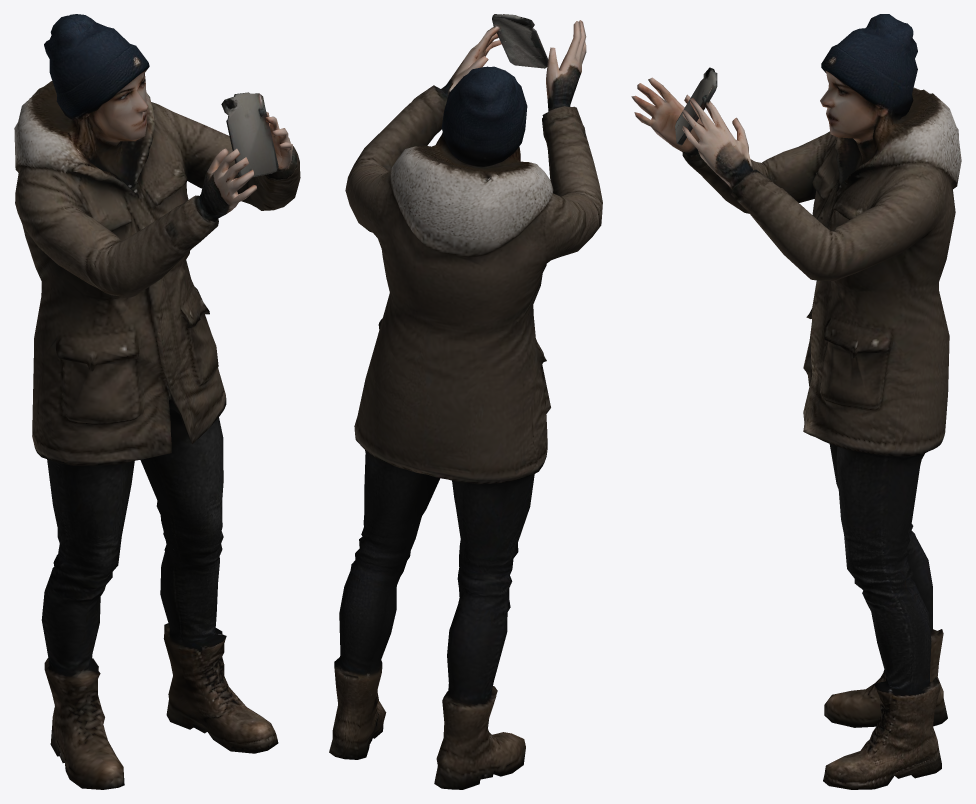
File: woman-winter-coat.glb
3 renders of one model, left to right at view 1: azimuth 30°, elevation 25°; view 2: azimuth 150°, elevation 25°; view 3: azimuth 270°, elevation 25°, orthographic. The views are drawn at different scales.
Parts seen in each view (by area): view 1: tripo_node_66766303-4943-41ef-8e34-dbde904df079; view 2: tripo_node_66766303-4943-41ef-8e34-dbde904df079; view 3: tripo_node_66766303-4943-41ef-8e34-dbde904df079.
Boxes of the visible parts, bbox=[...] form: tripo_node_66766303-4943-41ef-8e34-dbde904df079: bbox=[14, 14, 300, 789]; tripo_node_66766303-4943-41ef-8e34-dbde904df079: bbox=[329, 14, 602, 789]; tripo_node_66766303-4943-41ef-8e34-dbde904df079: bbox=[631, 14, 961, 789].
Bounding box in the file's own units: 0.3496 × 0.998 × 0.4277.
1 material, 1 textured.
